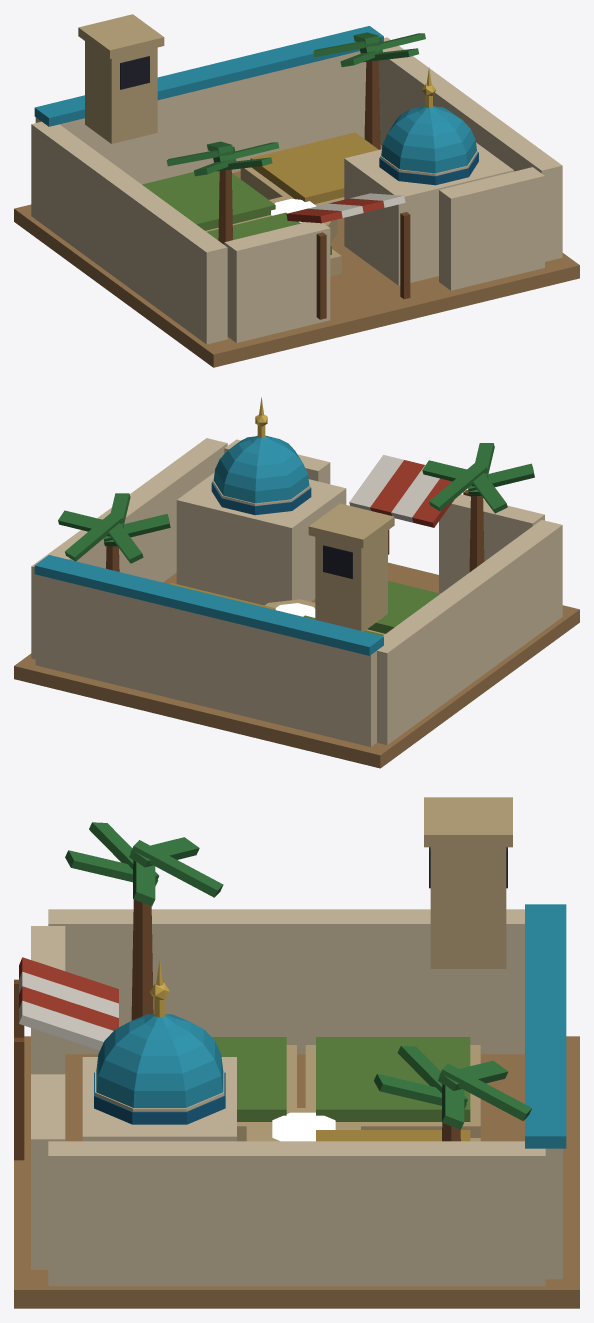
File: farm_t2.glb
3 renders of one model, top to bottom at view 1: azimuth 30°, elevation 25°; view 2: azimuth 150°, elevation 25°; view 3: azimuth 270°, elevation 25°, orthographic. The views are drawn at different scales.
Visible parts, largest first — view 1: body, glow; view 2: body; view 3: body, glow.
Part boxes in pixels (x1,y1,x2,y2): body: (14,14,579,367); glow: (271,198,316,222); body: (14,397,579,768); body: (14,797,579,1308); glow: (272,1112,335,1141).
Size of the model in its own units: 1.75 by 0.92 by 1.65.
